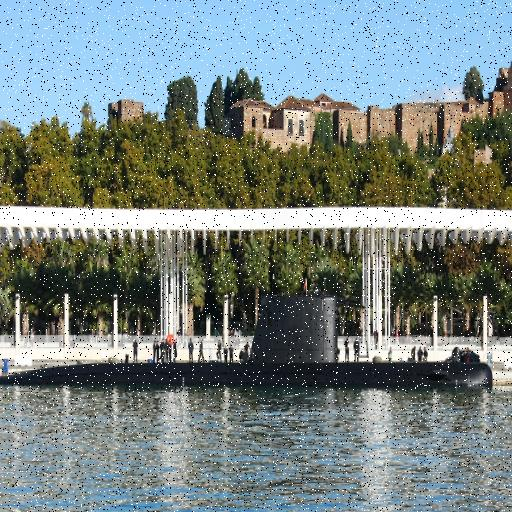submarine: (1, 293, 497, 388)
